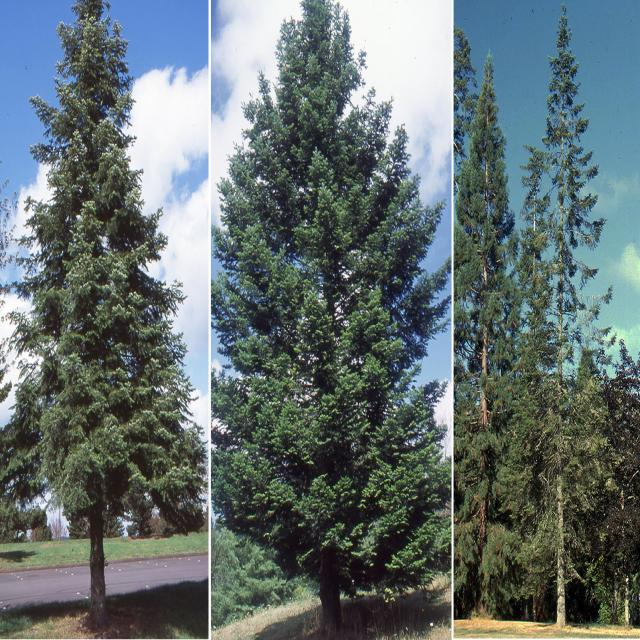Abies: (213, 3, 445, 630), (8, 2, 200, 610), (512, 1, 614, 626)
